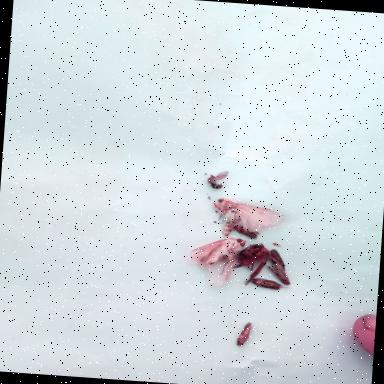abw: (180, 231, 250, 292), (209, 194, 289, 240)
pbw: (232, 318, 257, 350), (266, 260, 294, 286), (252, 276, 292, 294), (268, 247, 290, 272)
